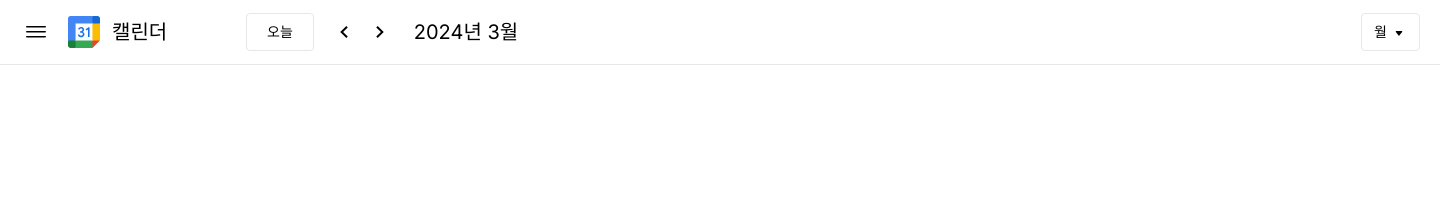
Test case: 달력 단위 변경 › 달력 단위 선택 버튼을 클릭 시 드랍다운이 화면에 나타난다.
The width and height of the screenshot is (1440, 201).
Click the button named "calendar view unit button" at [1391, 32], box [1361, 13, 1420, 51]
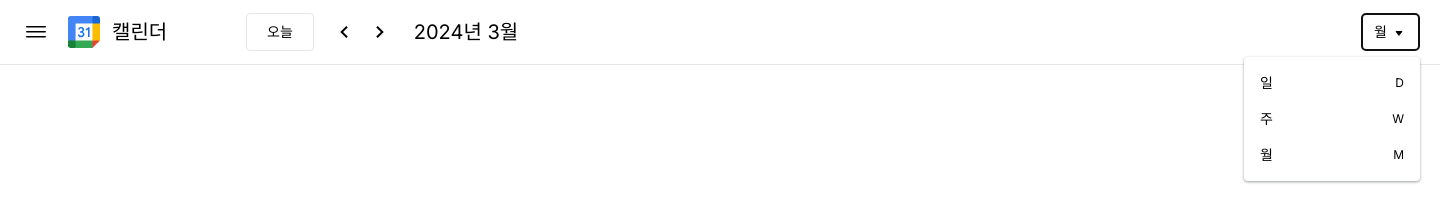
Check: the list is shown, box [1244, 57, 1420, 181]
Check: the list items read "일D", "주W", "월M", in this order, box [1244, 65, 1420, 101]; [1244, 101, 1420, 137]; [1244, 137, 1420, 173]
